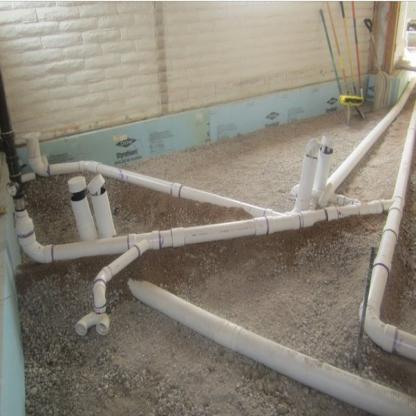PVC: (1, 76, 415, 366), (129, 273, 415, 415), (24, 173, 257, 245), (326, 78, 415, 190), (314, 136, 361, 208), (293, 139, 321, 213)
